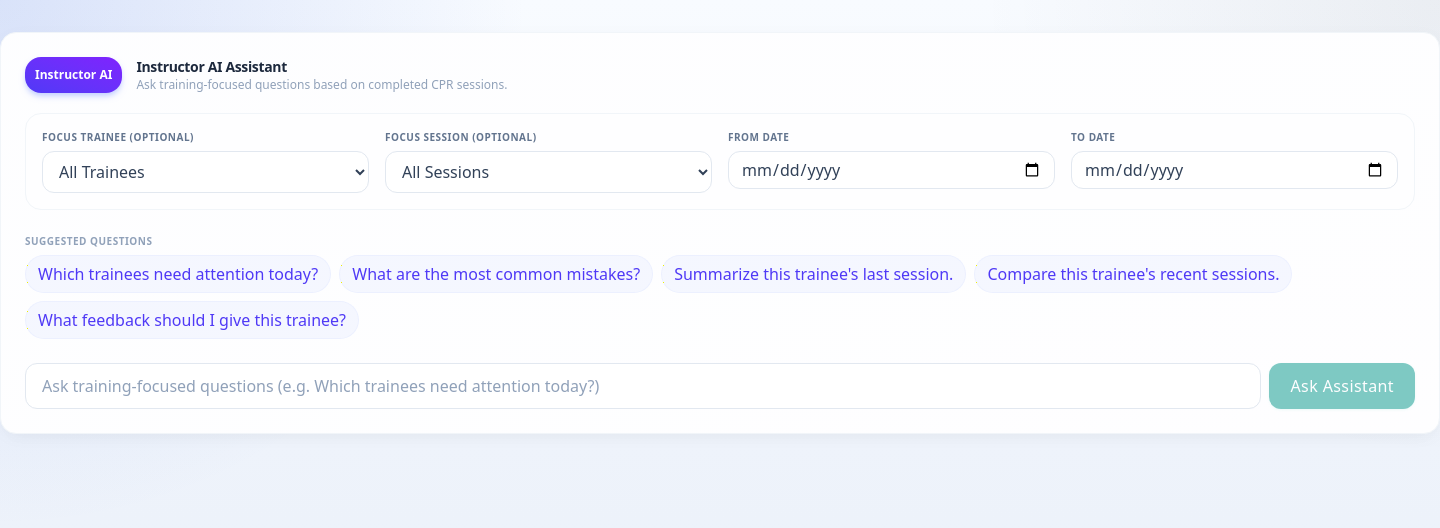
Scenario: InstructorAiAssistantPanel › renders custom 403 authorization message
Replace the text in the field with placeholder "Ask training-focused questions" with "Which trainees need attention today?" at x=643, y=386, box [25,363,1261,409]
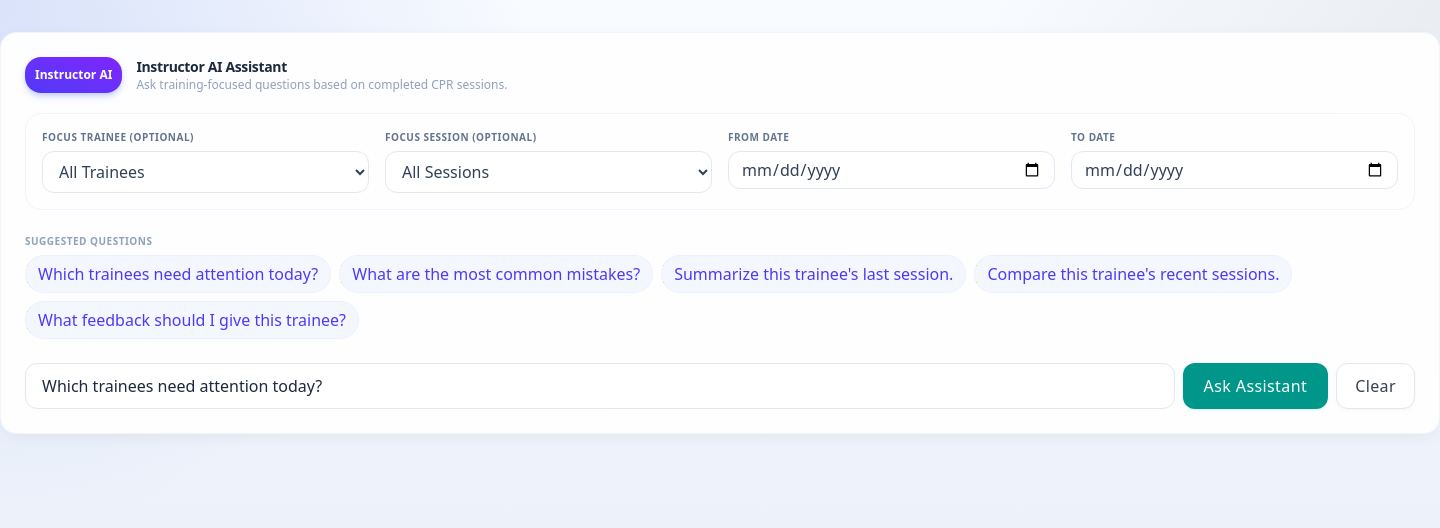
Click the button "Ask Assistant" at x=1255, y=386, box [1183,363,1328,409]
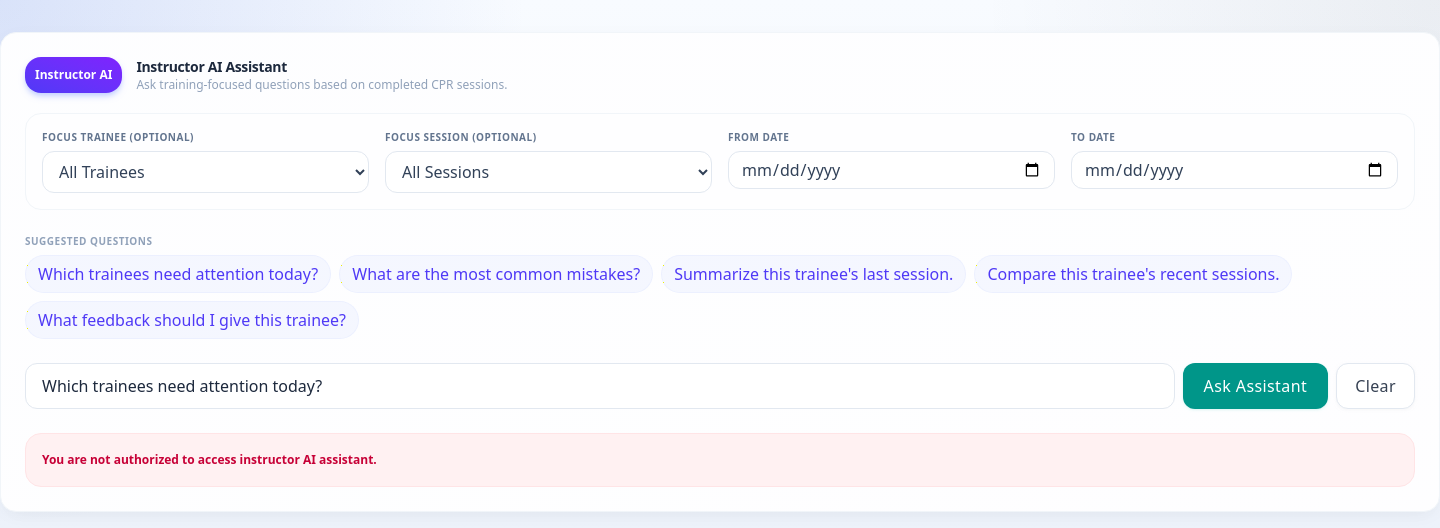
expect the text "You are not authorized to access instructor AI assistant." is shown: met, box [25,433,1415,486]
